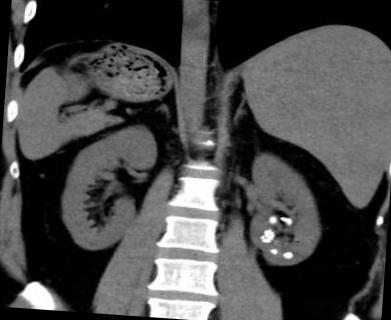Tas_Var: (278, 215, 292, 228), (260, 228, 275, 240), (279, 250, 294, 260), (266, 214, 276, 226), (268, 247, 279, 256), (259, 239, 271, 245), (258, 235, 264, 239), (268, 234, 274, 237)
